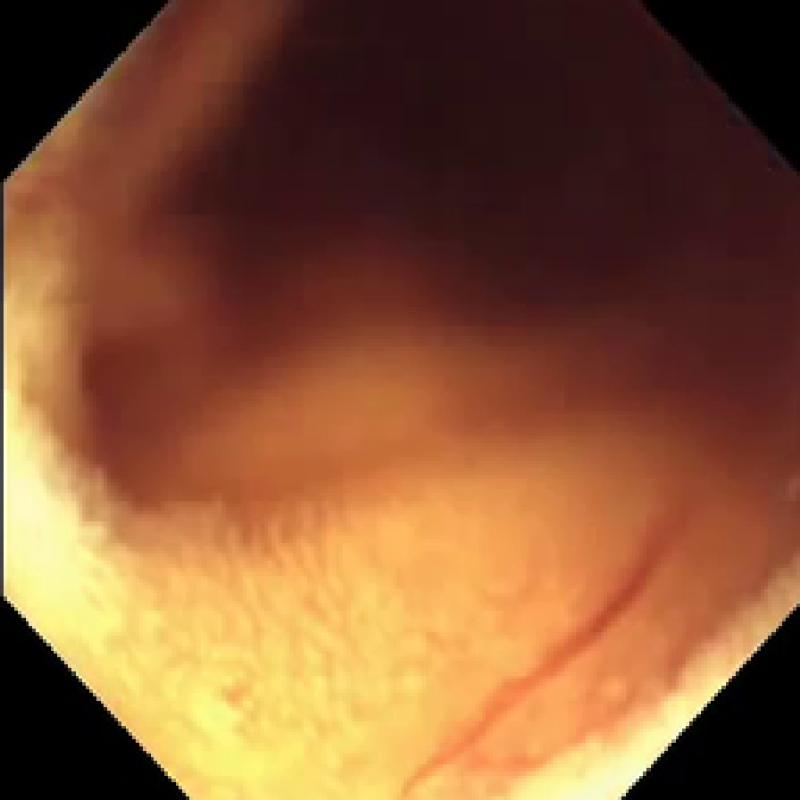bleeding: (153, 7, 800, 492)
